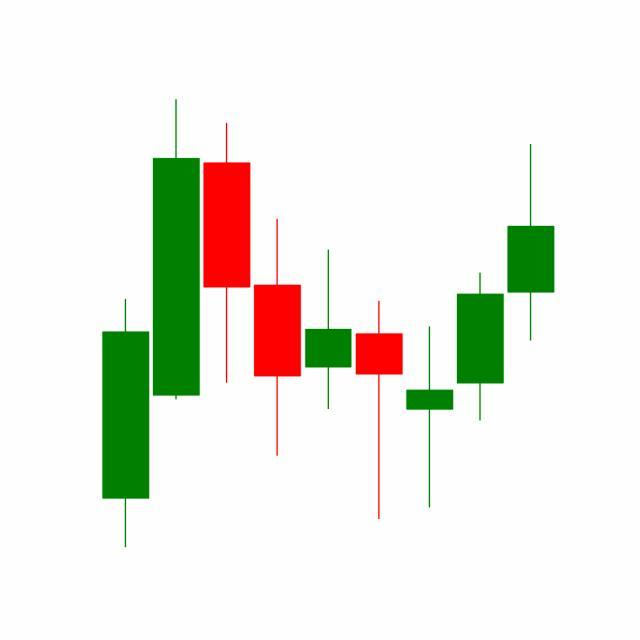Hikkake Pattern: (252, 216, 506, 524)
